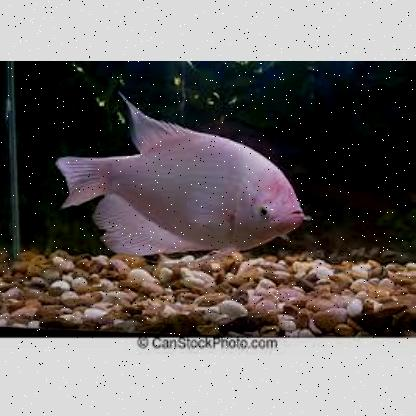gurame: (69, 107, 311, 256)
